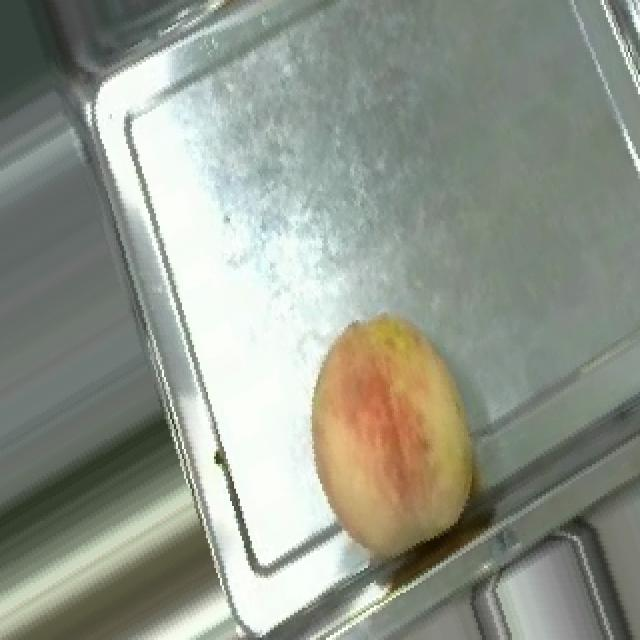Fruit: (264, 285, 514, 588)
